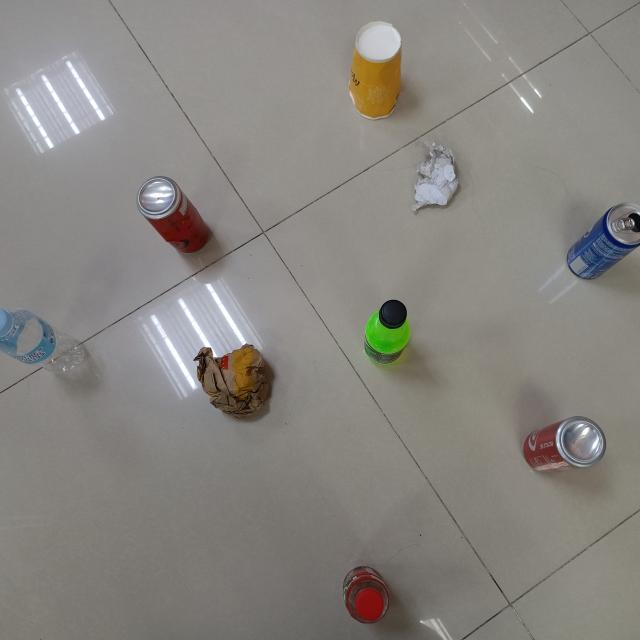recyclable waste: (0, 301, 92, 384), (187, 336, 275, 421), (132, 170, 215, 260), (563, 196, 640, 287), (515, 409, 614, 478), (343, 14, 406, 122), (358, 293, 420, 370), (406, 134, 462, 218), (338, 558, 396, 630)
